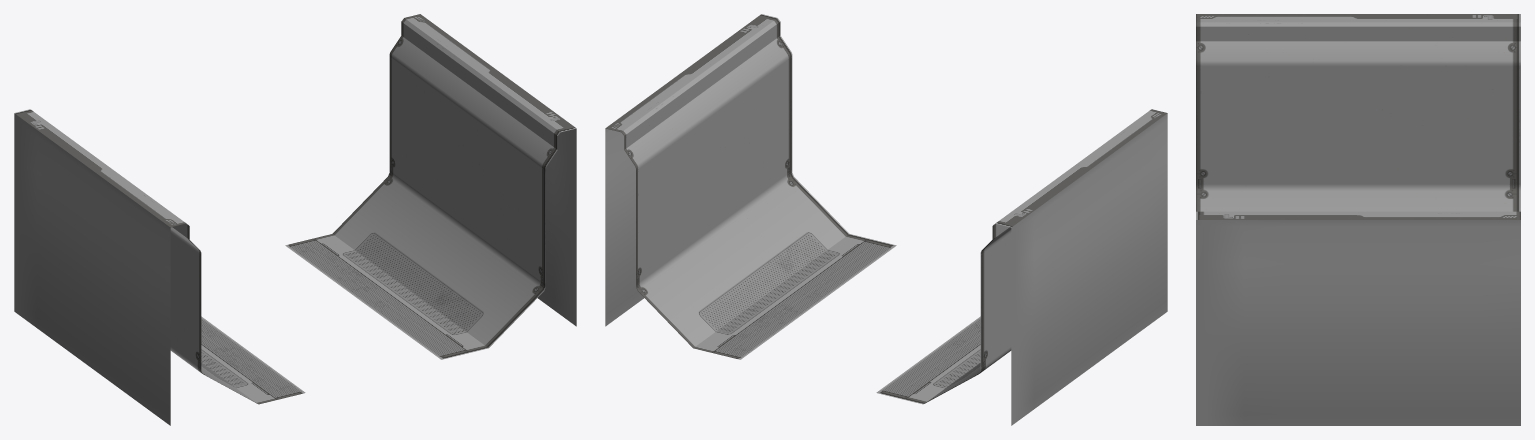
File: A_Coridor_4x8.FBX
The picture shows the model from 3 angles, left to right: view 1: azimuth 30°, elevation 25°; view 2: azimuth 150°, elevation 25°; view 3: azimuth 270°, elevation 25°; orthographic projection. The views are drawn at different scales.
Parts seen in each view (by area): view 1: A_Coridor_4x8; view 2: A_Coridor_4x8; view 3: A_Coridor_4x8.
Part boxes in pixels (left/top/right/bottom): A_Coridor_4x8: left=14, top=14, right=576, bottom=425; A_Coridor_4x8: left=605, top=14, right=1167, bottom=425; A_Coridor_4x8: left=1196, top=14, right=1520, bottom=425.
Size of the model in its own units: 600 by 280 by 400.
